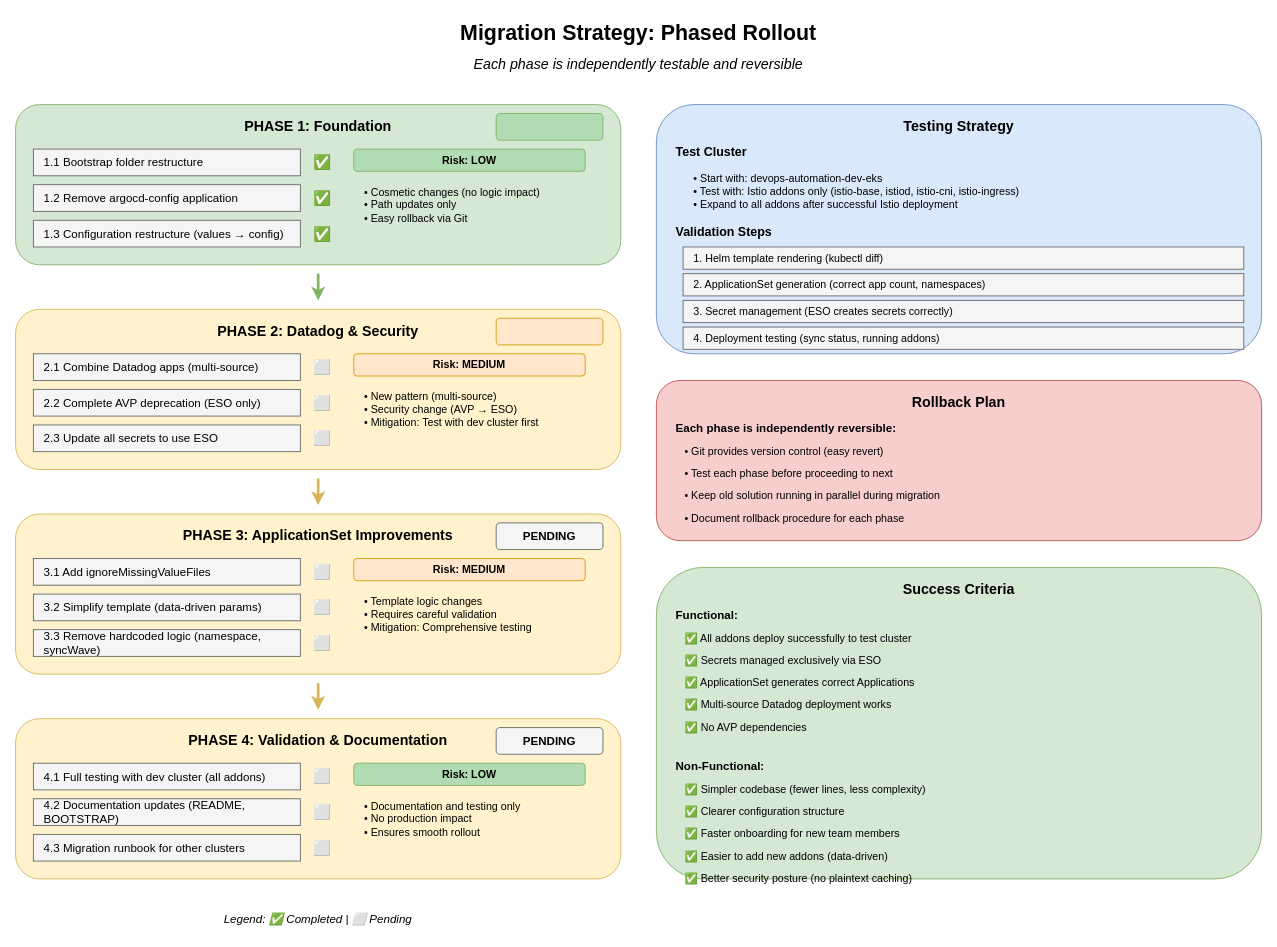
The diagram is 1277 pixels wide and 947 high, and some of its shapes have lost their labels. Each missing label, with the centre of its shape:
"IN PROGRESS" goes at point 549,331.
"✅ COMPLETED" goes at point 549,126.
